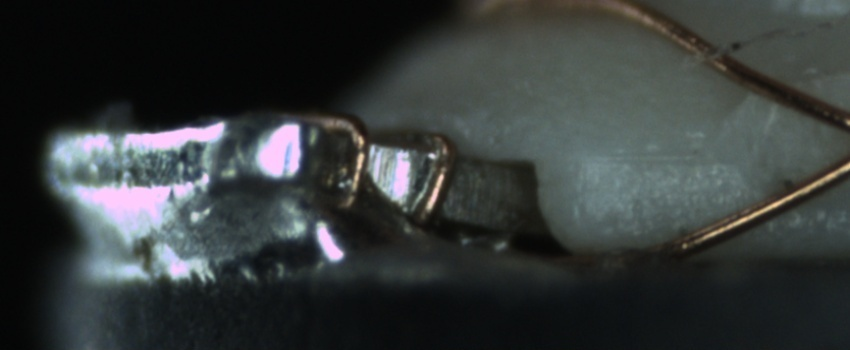DL: (576, 125, 737, 189)
TE: (299, 103, 458, 220)
